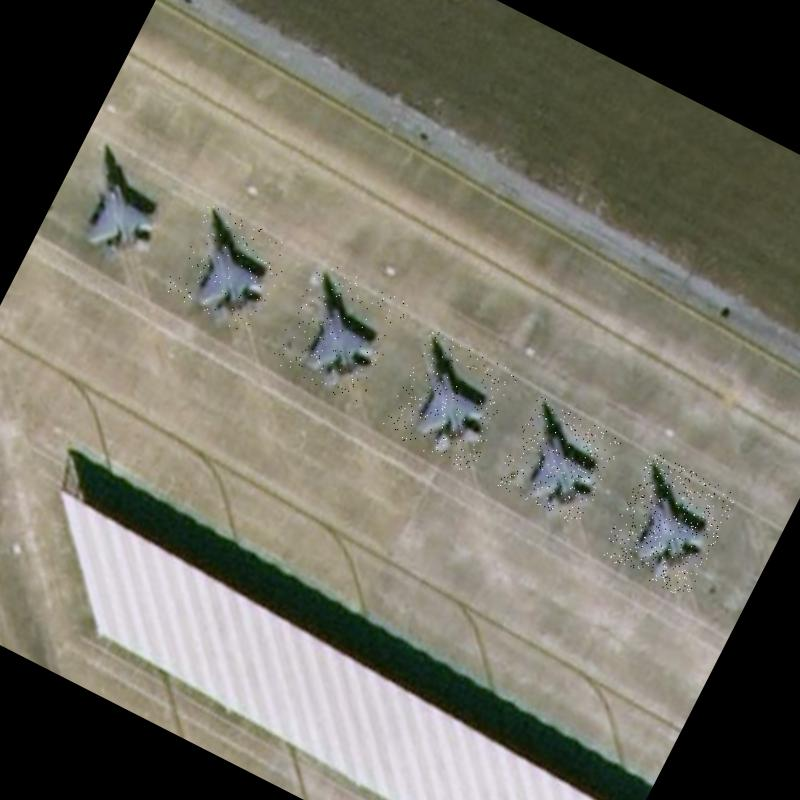A13: (49, 128, 193, 278), (268, 258, 411, 408), (598, 450, 738, 600), (380, 328, 521, 475), (161, 201, 295, 336), (492, 395, 624, 527)
